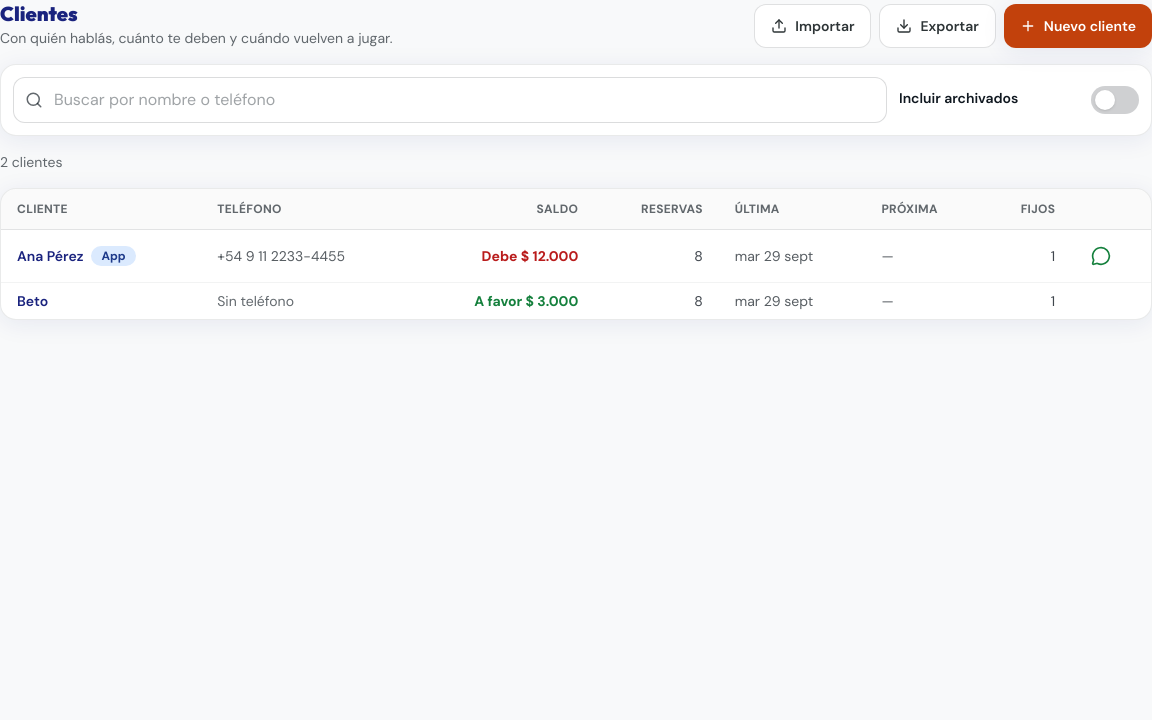
it: ClientesPage › crea un cliente con el teléfono normalizado y abre su ficha
Step 1. Click the button "Nuevo cliente" → click(1078, 26), box [1004,4,1151,48]
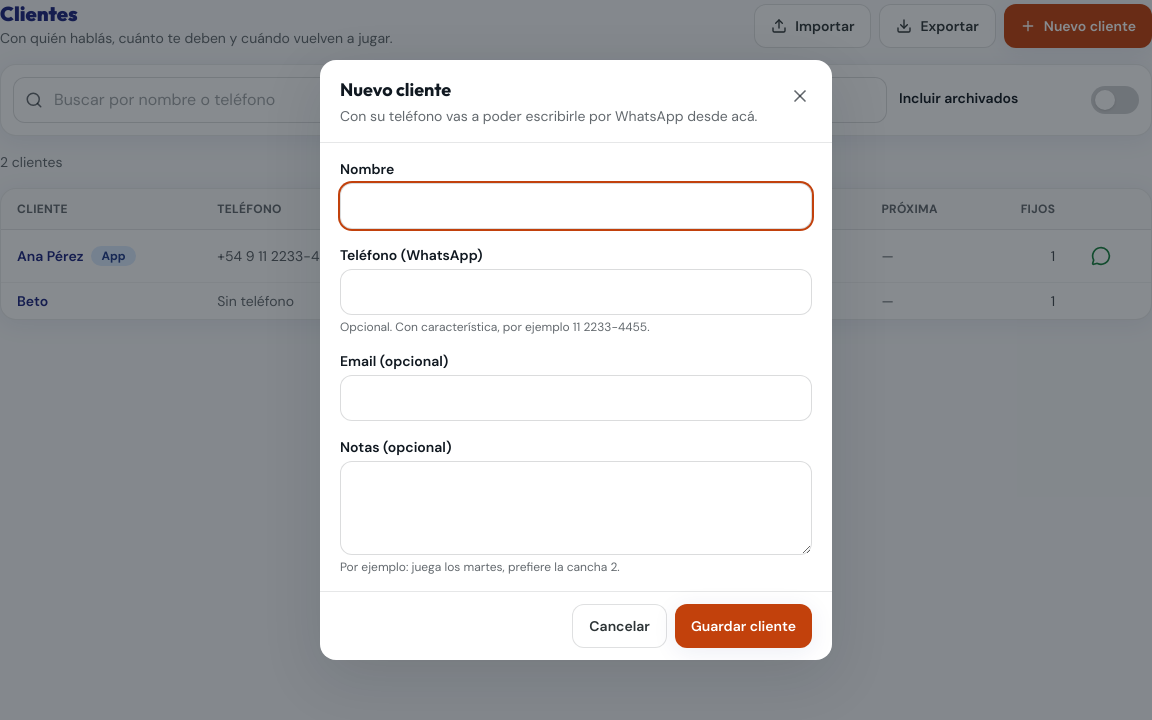
Step 2. Click the button "Guardar cliente" → click(743, 626), box [675,604,812,648]
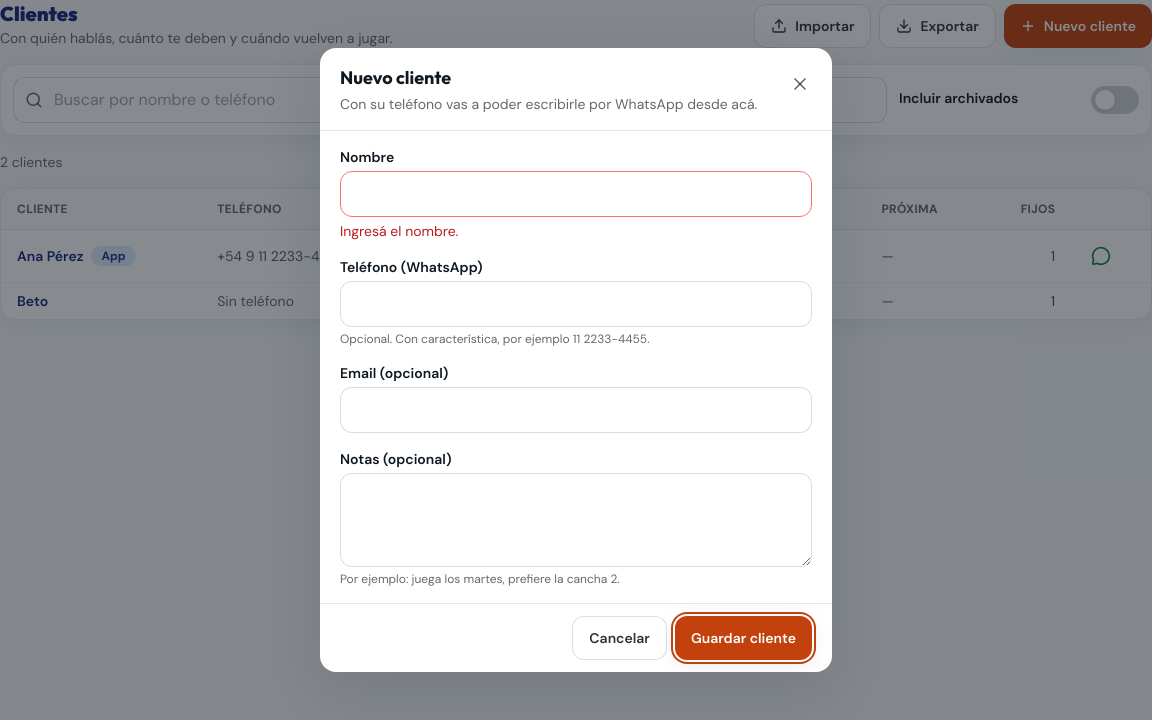
Check: the text "Ingresá el nombre." is shown, box [340,222,458,240]
Step 3. Type "Carla Gómez" into the field labelled "Nombre" → (576, 194), box [340,171,812,217]
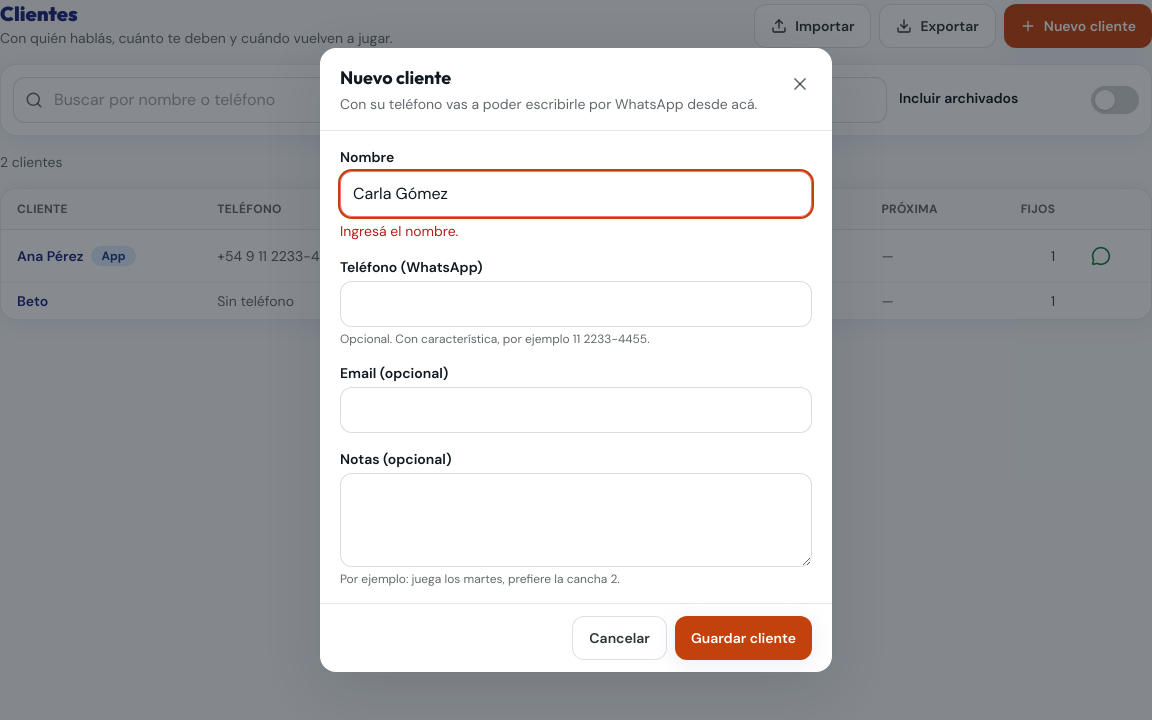
Step 4. Type "11 5555-6666" into the field labelled "Teléfono (WhatsApp)" → (576, 304), box [340,281,812,327]
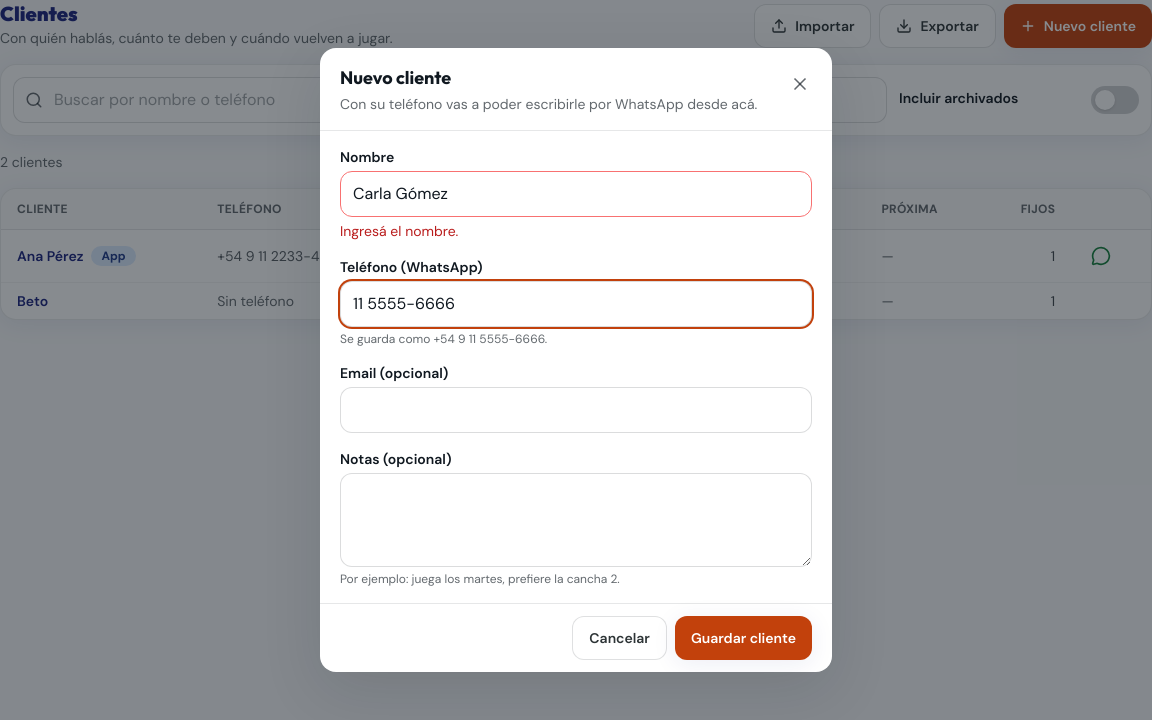
Step 5. Click the button "Guardar cliente" → click(743, 638), box [675,616,812,660]
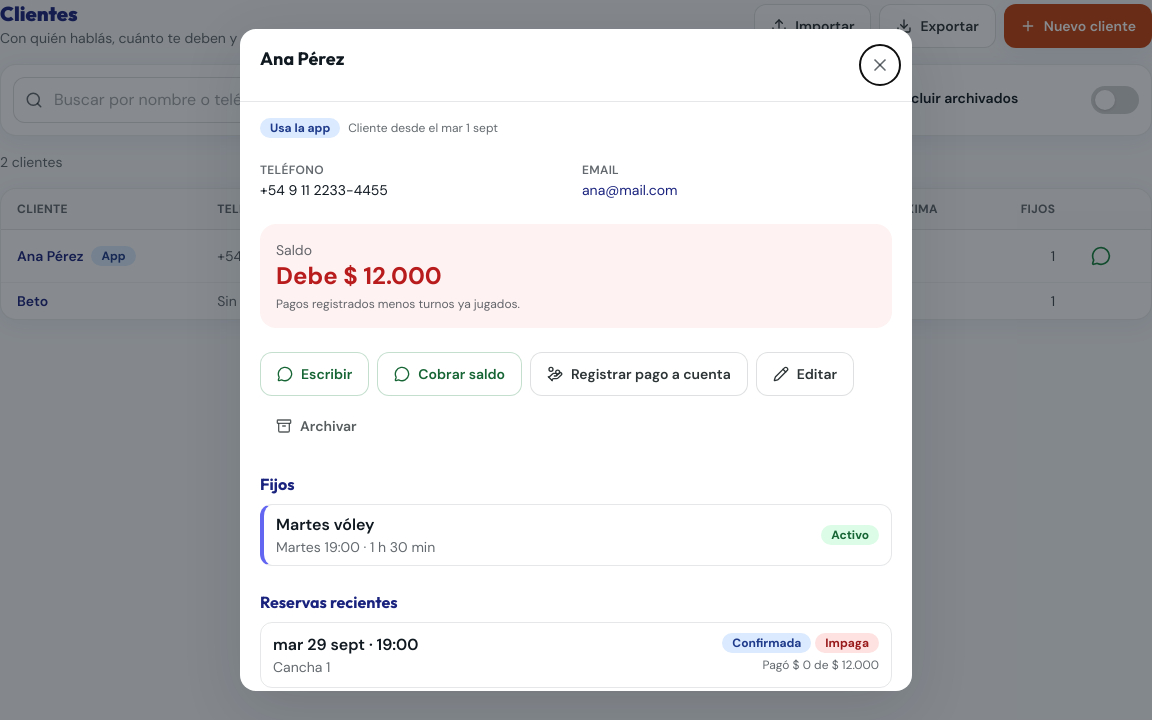
Check: the dialog "Ana Pérez" is shown, box [240,29,912,691]
